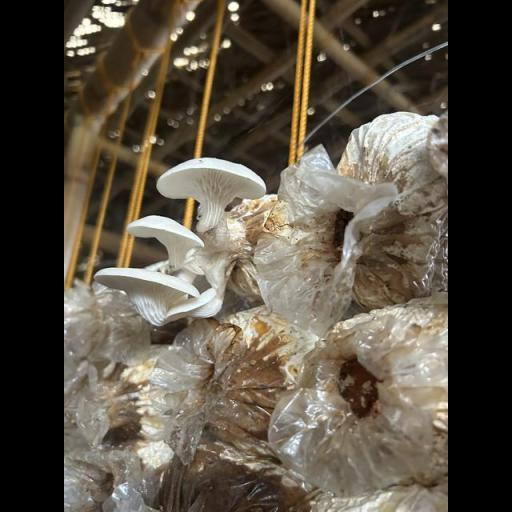White Oyster Mushroom: (84, 143, 273, 338)
